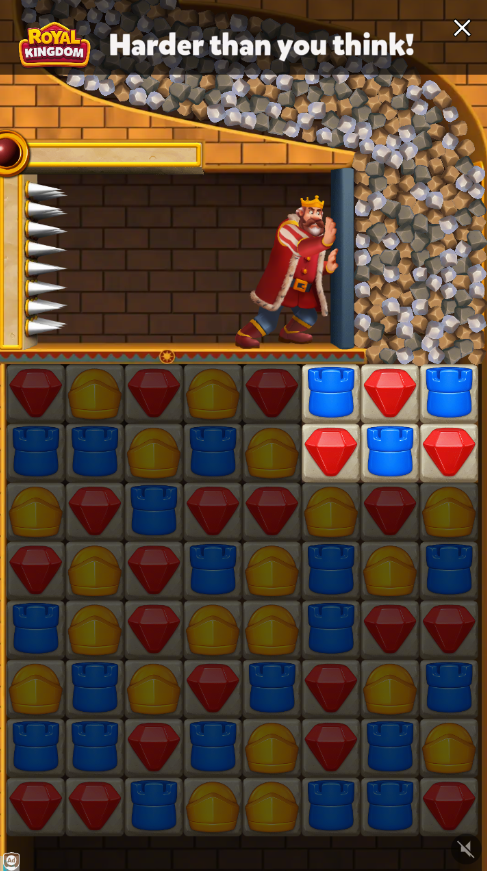close_button: (450, 14, 472, 40)
